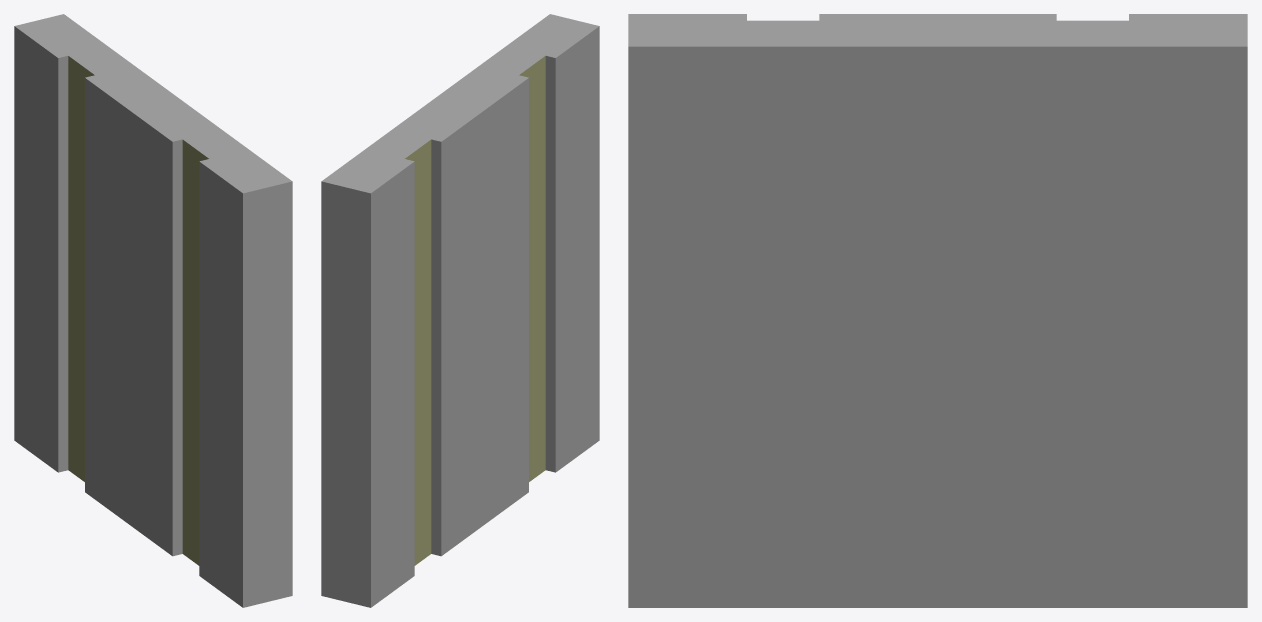
File: Cm_II_Wall_8x8.fbx
3 views of the same model, side by side, from view 1: azimuth 30°, elevation 25°; view 2: azimuth 150°, elevation 25°; view 3: azimuth 270°, elevation 25° (orthographic). The views are drawn at different scales.
Visible parts, largest first — view 1: Cm_II_Wall_8x8; view 2: Cm_II_Wall_8x8; view 3: Cm_II_Wall_8x8.
Boxes of the visible parts, x1,y1,x2,y2 form: Cm_II_Wall_8x8: [14, 14, 292, 607]; Cm_II_Wall_8x8: [321, 14, 599, 607]; Cm_II_Wall_8x8: [628, 14, 1247, 607].
Size of the model in its own units: 100 by 800 by 800.
